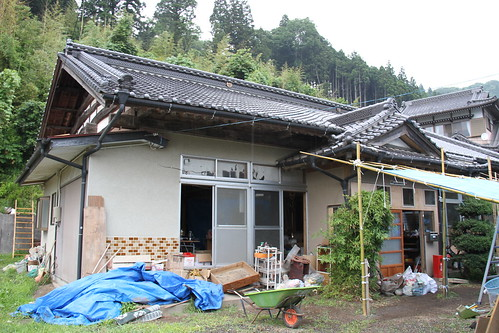building: (44, 50, 402, 282), (414, 85, 499, 154)
pushcart: (227, 275, 311, 325)
sky: (340, 1, 499, 85)
vegetation: (1, 1, 403, 104)
